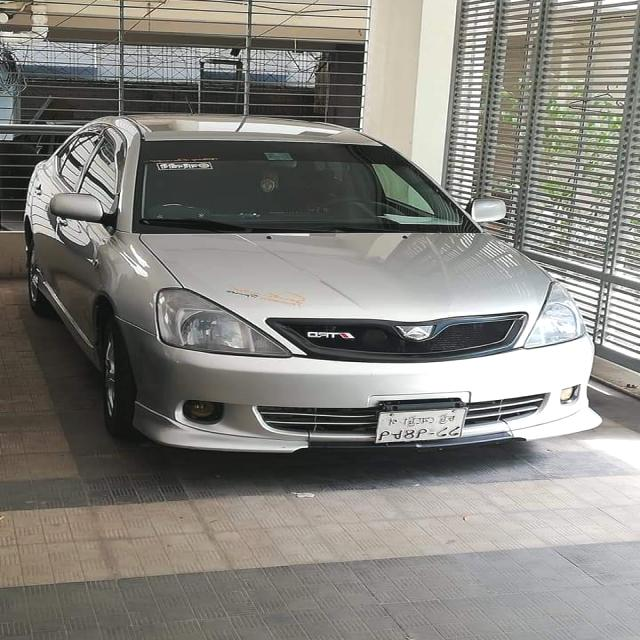silver: (0, 112, 604, 451)
